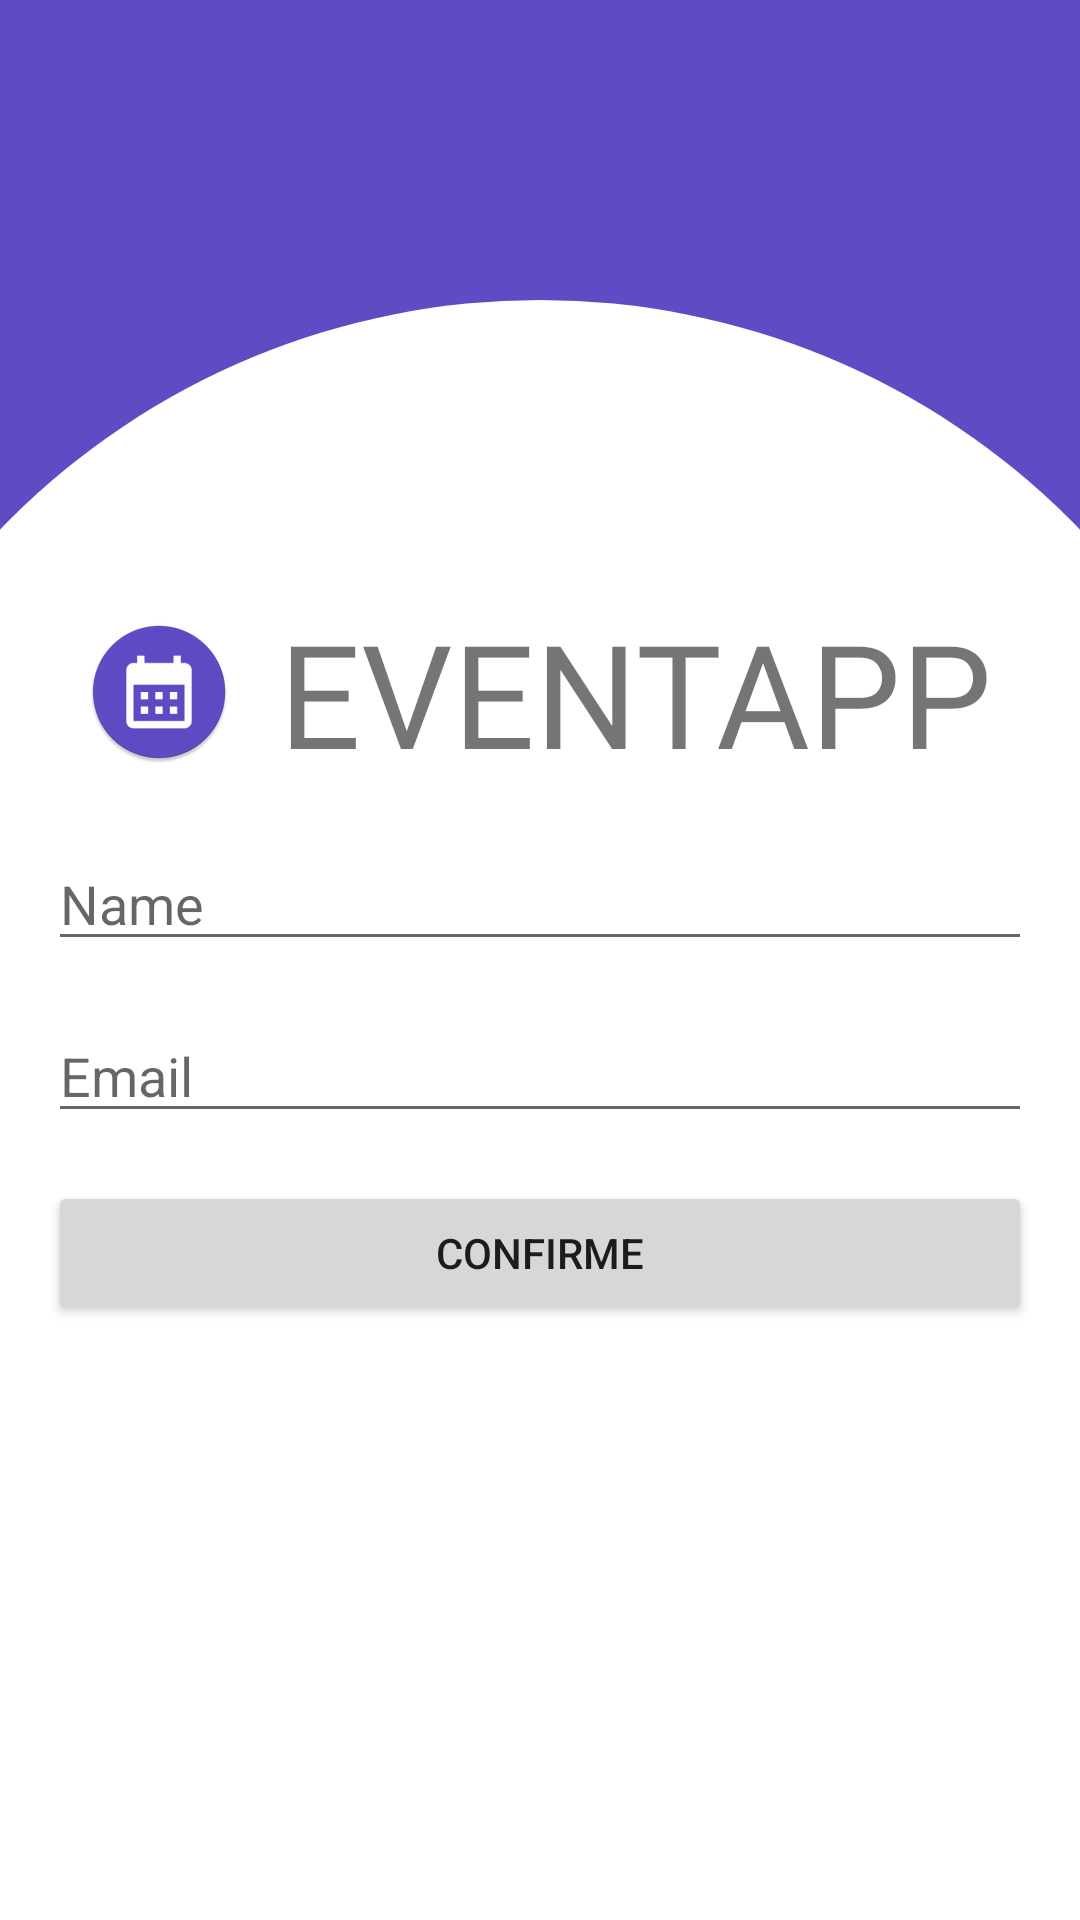

Icons on this 1080 × 1920 Android screen, each with the point to tap as [x,y]:
calendar round: [159,693]
